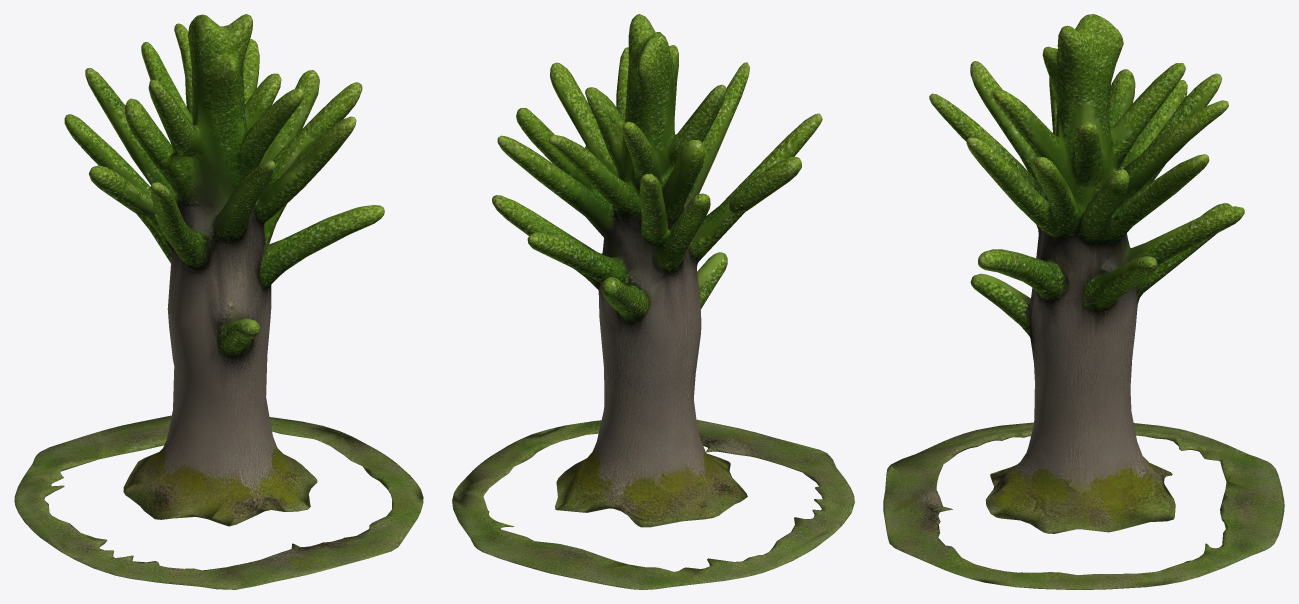
The model's file is oak_tree.glb.
3 views of the same model, side by side, from view 1: azimuth 30°, elevation 25°; view 2: azimuth 150°, elevation 25°; view 3: azimuth 270°, elevation 25° (orthographic). The views are drawn at different scales.
Parts seen in each view (by area): view 1: node_0; view 2: node_0; view 3: node_0.
Part boxes in pixels (<box>): node_0: <box>14,14,423,589</box>; node_0: <box>452,14,854,589</box>; node_0: <box>883,14,1284,589</box>.
Bounding box in the file's own units: 0.6944 × 0.9392 × 0.6972.
Materials: 1 (1 with a texture image).
